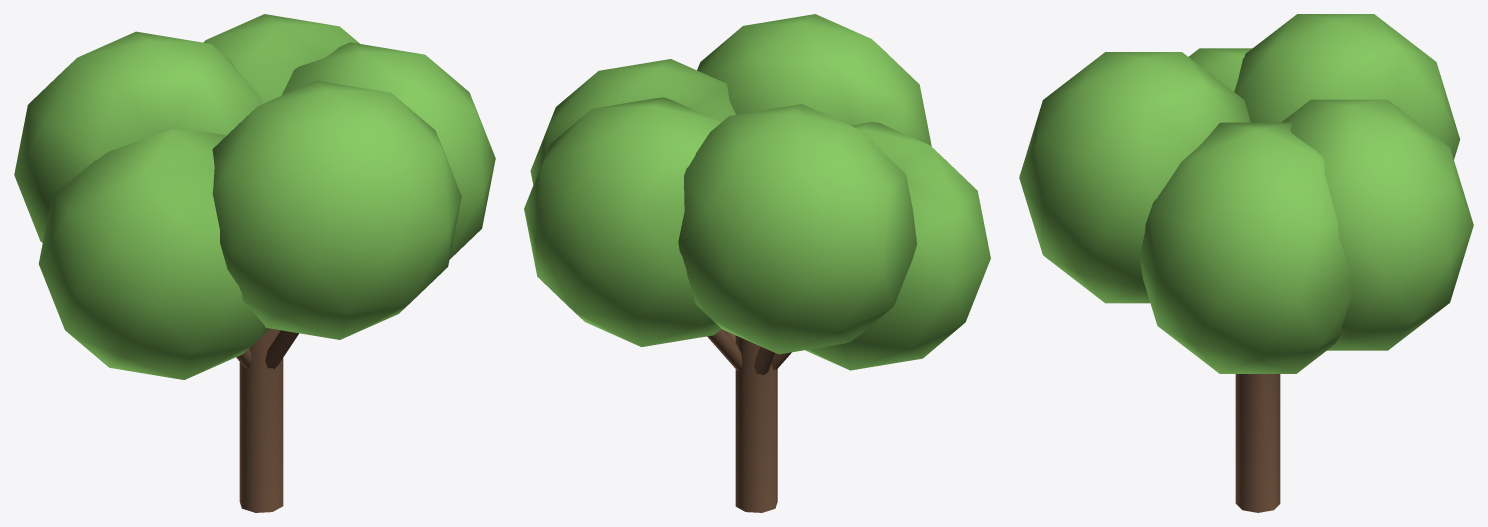
File: tree-rooftop-low.glb
3 views of the same model, side by side, from view 1: azimuth 30°, elevation 25°; view 2: azimuth 150°, elevation 25°; view 3: azimuth 270°, elevation 25° (orthographic). The views are drawn at different scales.
Visible parts, largest first — view 1: compact garden crown, tree trunk; view 2: compact garden crown, tree trunk; view 3: compact garden crown, tree trunk.
Part boxes in pixels (x1,y1,x2,y2): compact garden crown: (14, 14, 495, 379); tree trunk: (236, 328, 298, 512); compact garden crown: (524, 14, 990, 370); tree trunk: (707, 329, 791, 512); compact garden crown: (1019, 14, 1473, 373); tree trunk: (1235, 374, 1280, 512).
Bounding box in the file's own units: 1.53 × 1.55 × 1.42.
